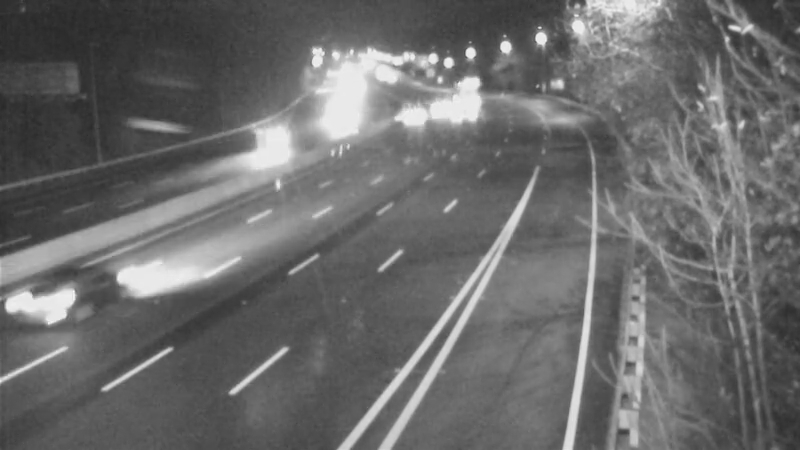vehicle: (1, 252, 105, 362), (438, 68, 488, 118), (411, 77, 461, 127), (439, 89, 489, 139), (389, 85, 439, 135), (252, 120, 302, 170)
